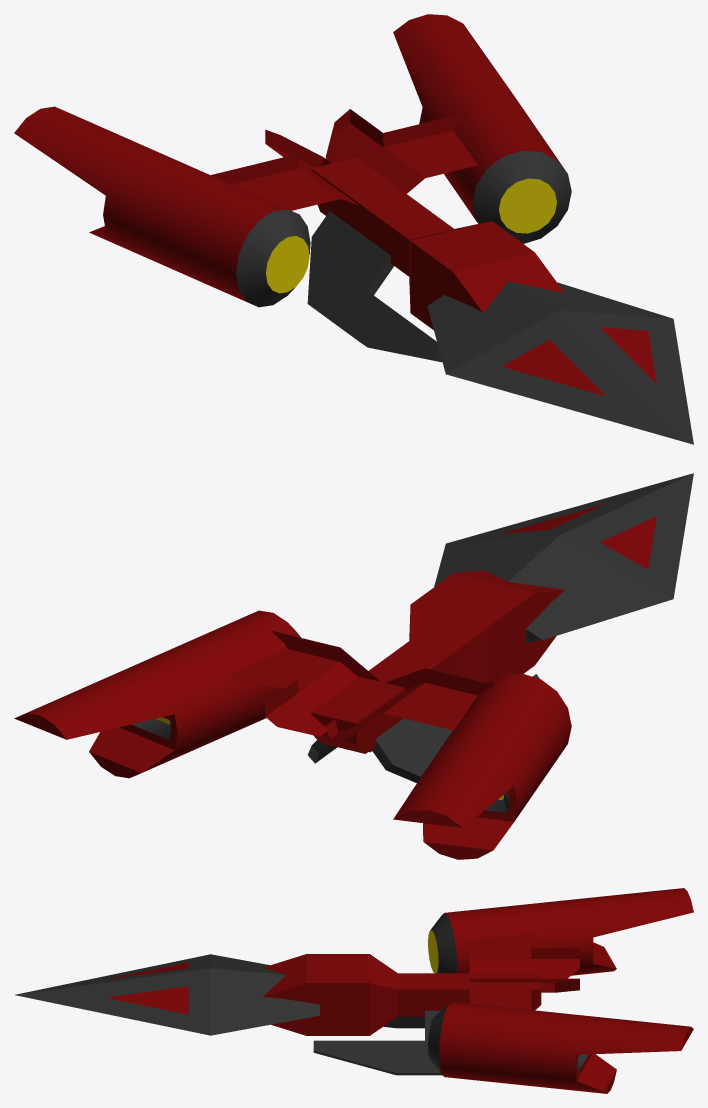
The model's file is ship2.glb.
The picture shows the model from 3 angles, top to bottom: view 1: azimuth 30°, elevation 25°; view 2: azimuth 150°, elevation 25°; view 3: azimuth 270°, elevation 25°; orthographic projection. The views are drawn at different scales.
Parts seen in each view (by area): view 1: NPC_Spaceship_A; view 2: NPC_Spaceship_A; view 3: NPC_Spaceship_A.
Part boxes in pixels (<box>): NPC_Spaceship_A: <box>14,14,693,444</box>; NPC_Spaceship_A: <box>14,473,693,859</box>; NPC_Spaceship_A: <box>15,888,693,1093</box>.
Size of the model in its own units: 3.74 by 0.9887 by 6.69.
